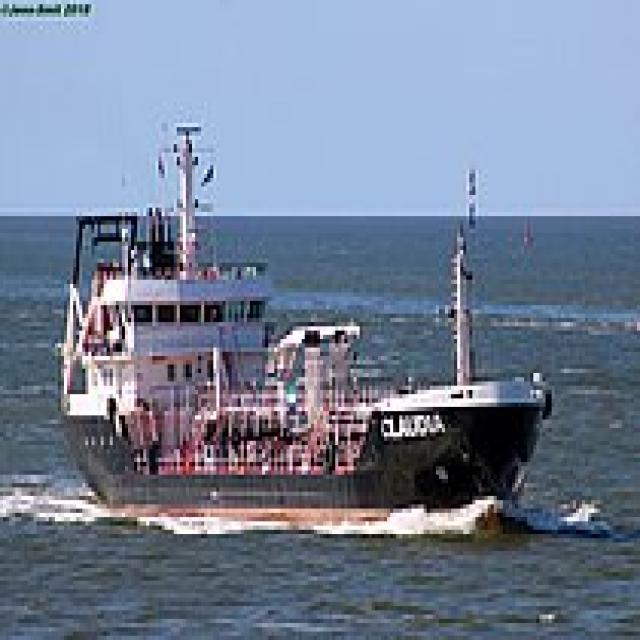Tanker: (48, 115, 554, 517)
